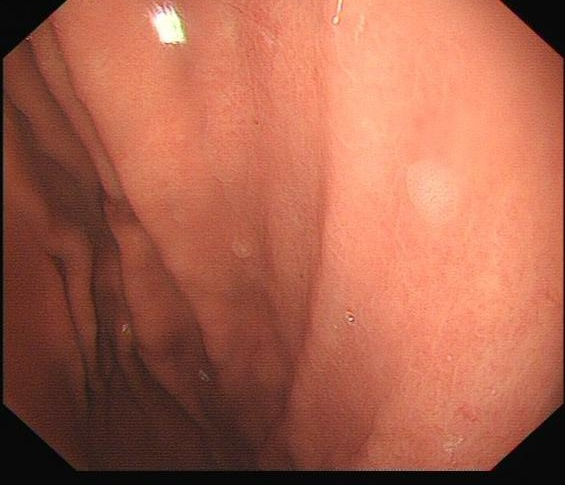Polyp: (402, 157, 457, 229)
